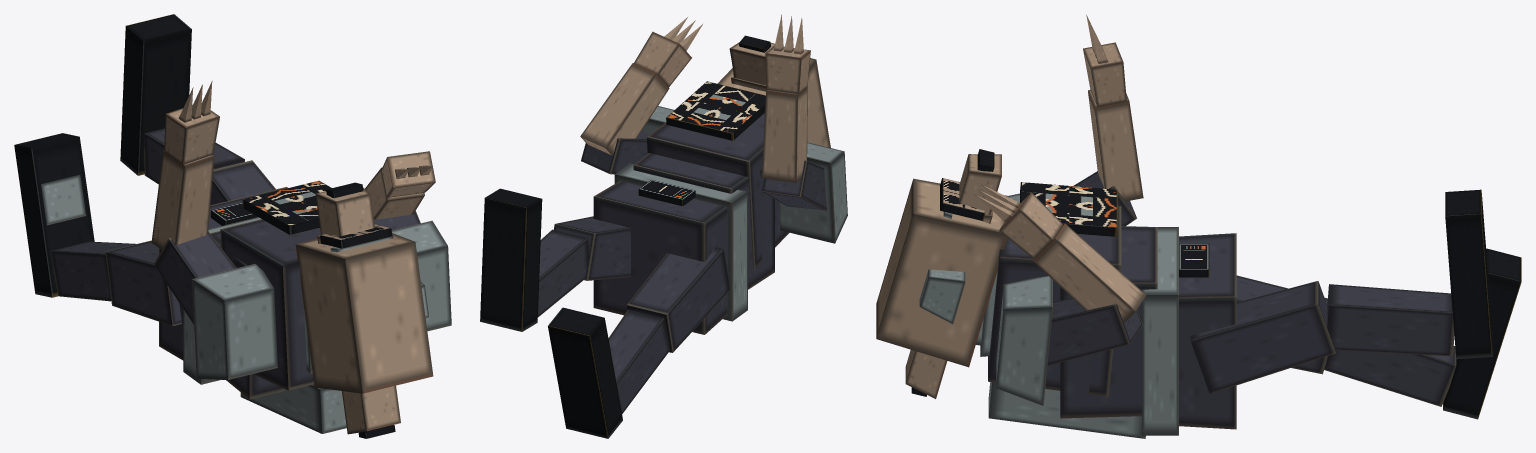
File: repetiel_move.obj
The picture shows the model from 3 angles, left to right: view 1: azimuth 30°, elevation 25°; view 2: azimuth 150°, elevation 25°; view 3: azimuth 270°, elevation 25°; orthographic projection. The views are drawn at different scales.
Visible parts, largest first — view 1: repetiel_move; view 2: repetiel_move; view 3: repetiel_move.
Boxes of the visible parts, box(x1,y1,x2,y2) form: repetiel_move: box(14, 14, 451, 438); repetiel_move: box(480, 14, 847, 438); repetiel_move: box(876, 15, 1521, 438).
Size of the model in its own units: 0.4846 by 0.6513 by 1.04.
1 material, 1 textured.
